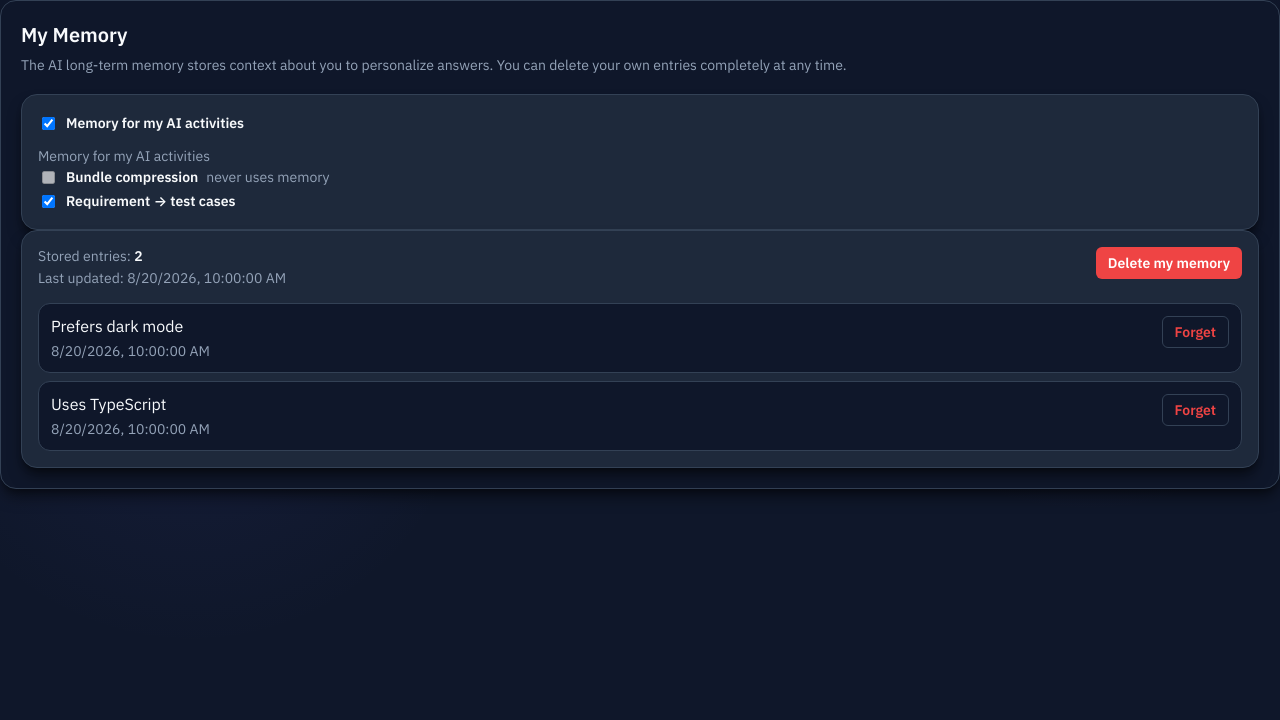
Test: MemorySection › shows an error message when delete fails
The width and height of the screenshot is (1280, 720).
Click the button with test id "memory-self-service-delete-btn". click: [1169, 263]
box: [1096,247,1242,279]
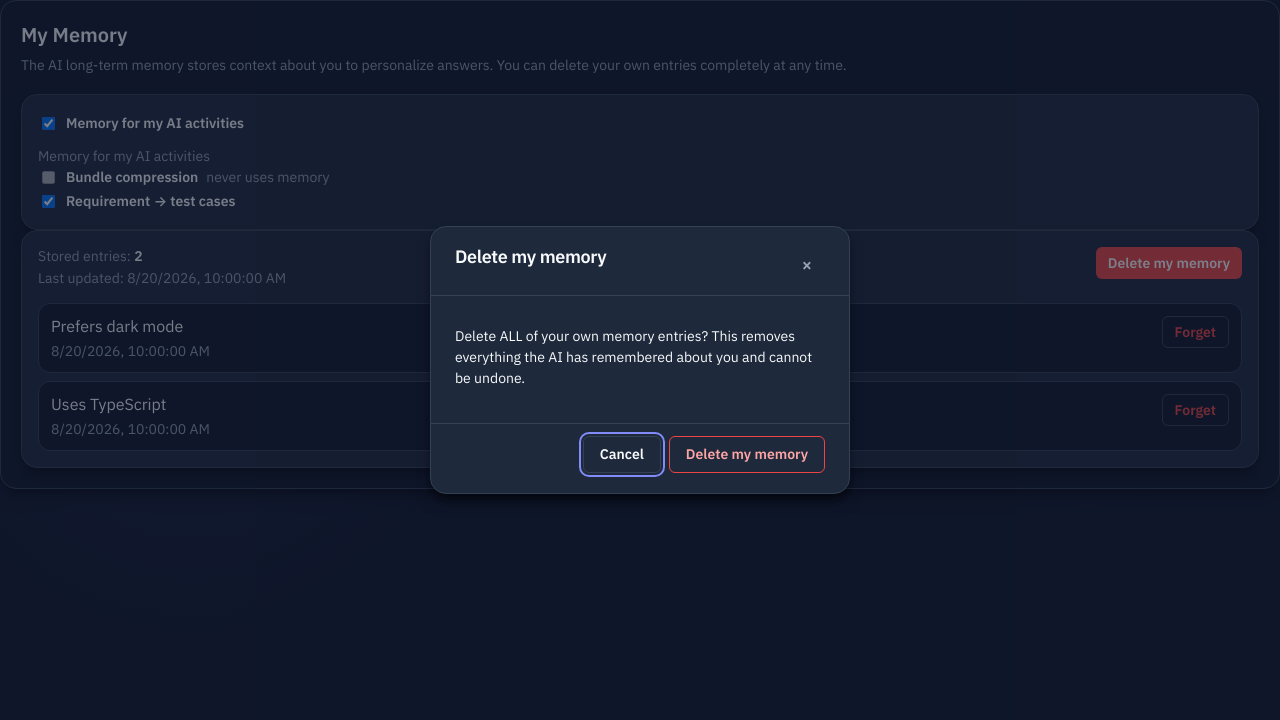
Click the button with test id "memory-self-service-delete-confirm-confirm". click: [747, 454]
box: [669,436,825,473]
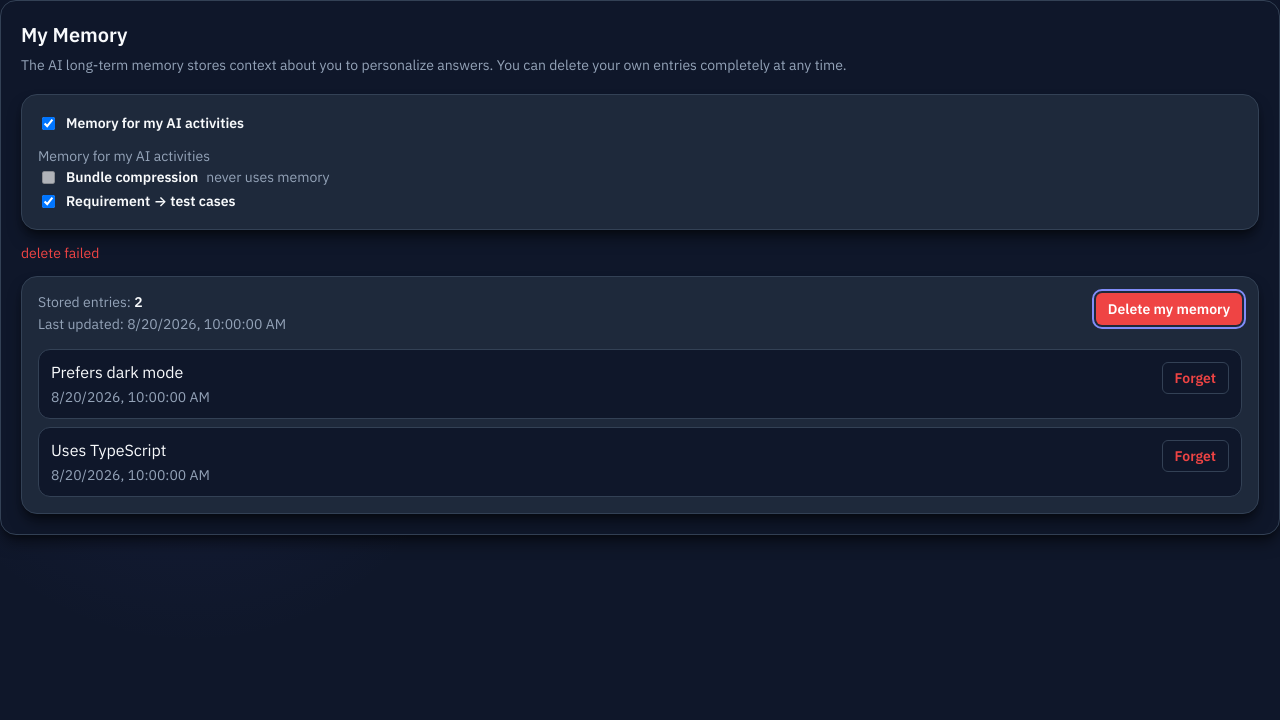
Expected: the text with test id "memory-self-service-count" reads "2", [134,293,142,311]
Expected: the message with test id "memory-self-service-error" reads "delete failed", [21,244,99,262]
